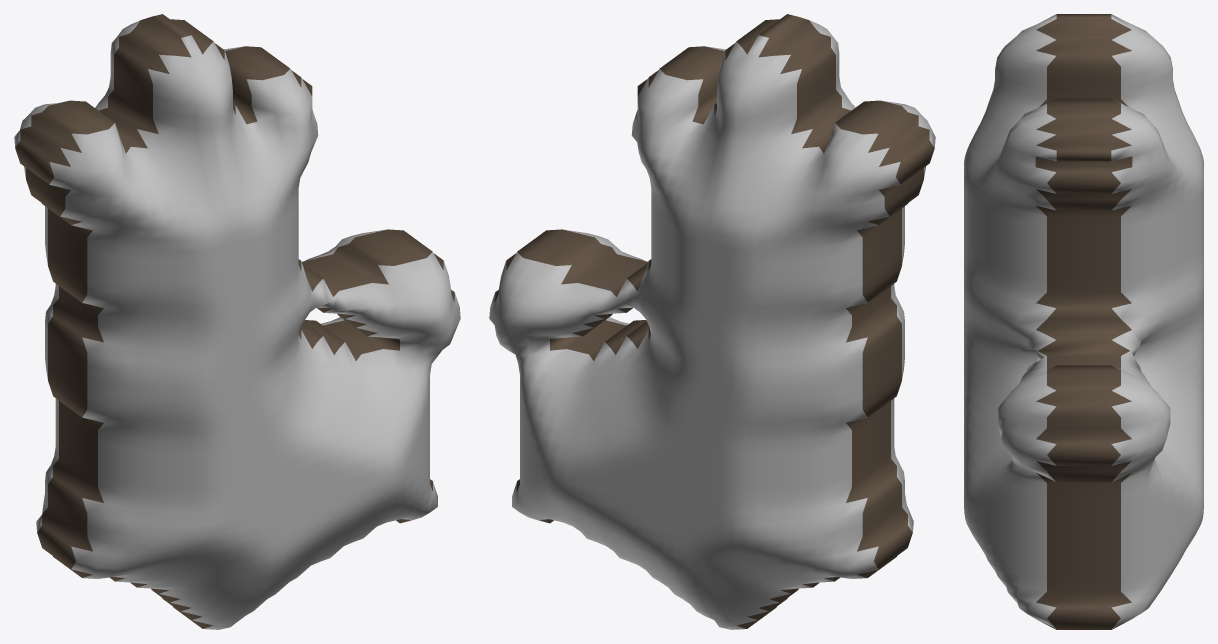
Rendered from bone_throne.glb.
3 views of the same model, side by side, from view 1: azimuth 30°, elevation 25°; view 2: azimuth 150°, elevation 25°; view 3: azimuth 270°, elevation 25° (orthographic). The views are drawn at different scales.
Parts seen in each view (by area): view 1: bone_throne; view 2: bone_throne; view 3: bone_throne.
Part boxes in pixels (x1=…): bone_throne: x1=14, y1=14, x2=460, y2=629; bone_throne: x1=489, y1=14, x2=935, y2=629; bone_throne: x1=964, y1=14, x2=1203, y2=629.
Size of the model in its own units: 0.925 by 1.3 by 0.5009.
